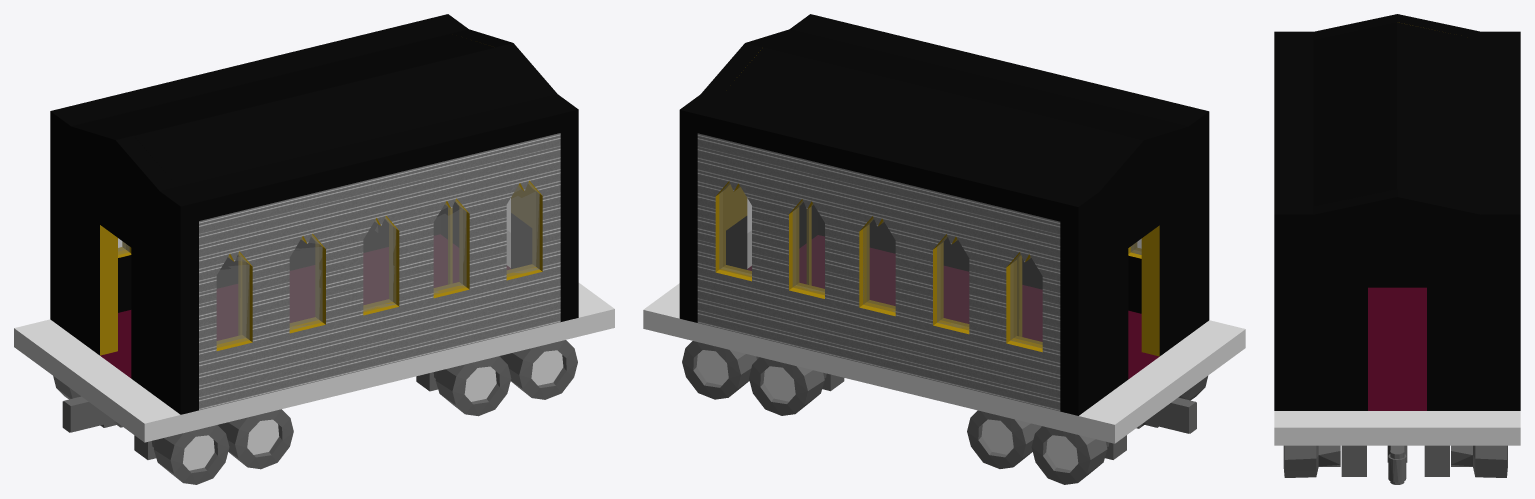
File: SubwayCar_1.glb
3 views of the same model, side by side, from view 1: azimuth 30°, elevation 25°; view 2: azimuth 150°, elevation 25°; view 3: azimuth 270°, elevation 25° (orthographic). The views are drawn at different scales.
Visible parts, largest first — view 1: Ext.002, Floors, Undercarriage, Grab Bars.001; view 2: Ext.002, Floors, Undercarriage, Grab Bars.001; view 3: Ext.002, Floors, Undercarriage, Coupling.002.
Part boxes in pixels (<box>): Ext.002: <box>50,14,578,414</box>; Floors: <box>14,230,614,442</box>; Undercarriage: <box>53,340,577,484</box>; Grab Bars.001: <box>238,207,452,335</box>; Ext.002: <box>679,14,1209,415</box>; Floors: <box>643,230,1245,443</box>; Undercarriage: <box>682,341,1207,484</box>; Grab Bars.001: <box>807,207,1021,336</box>; Ext.002: <box>1274,14,1520,410</box>; Floors: <box>1274,287,1520,445</box>; Undercarriage: <box>1283,445,1507,477</box>; Coupling.002: <box>1388,448,1406,484</box>.
Size of what is drawn, in the model's own units: 8.45 by 4.93 by 3.81.
11 materials, 1 textured.
